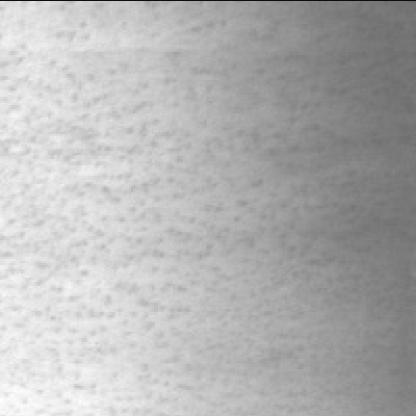pitted_surface: (11, 63, 380, 406), (233, 50, 401, 308)
